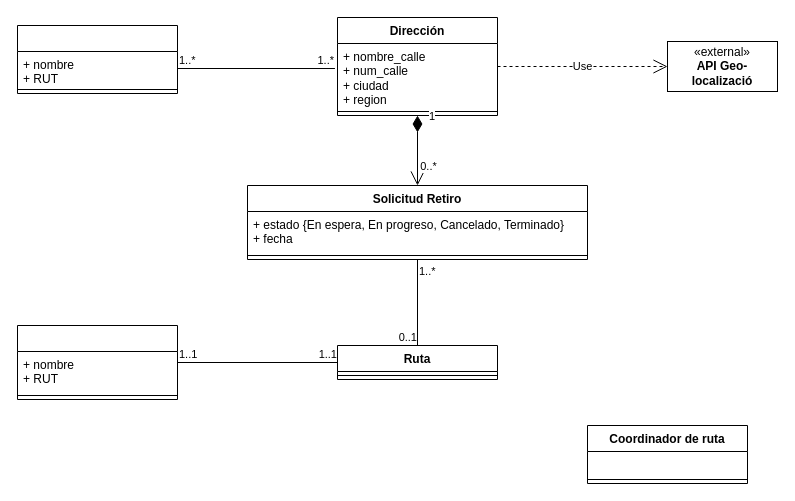
This 795x501 diagram has some shape labels left out. Here are the shapes that lost their labels. From the top down, the box of each, then its label:
(16, 24, 178, 94): Habitante
(16, 324, 178, 400): Recolector
